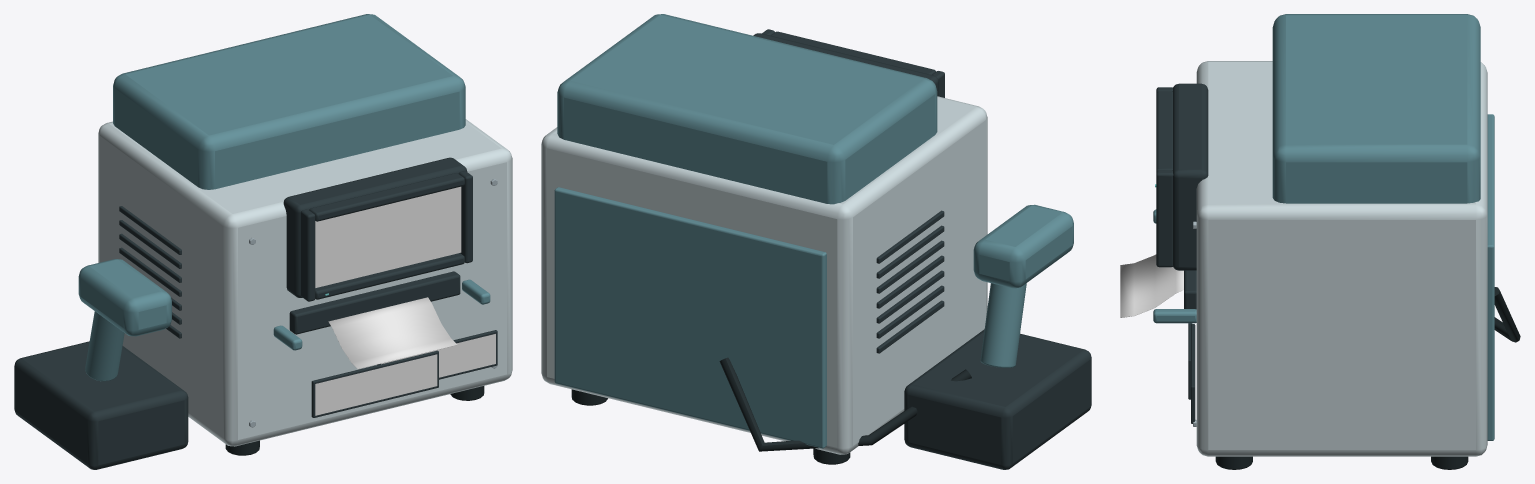
Rendered from ID_LabelPrinter.fbx.
3 views of the same model, side by side, from view 1: azimuth 30°, elevation 25°; view 2: azimuth 150°, elevation 25°; view 3: azimuth 270°, elevation 25° (orthographic). The views are drawn at different scales.
Parts seen in each view (by area): view 1: ID_LabelPrinter; view 2: ID_LabelPrinter; view 3: ID_LabelPrinter.
Part boxes in pixels (x1,y1,x2,y2): ID_LabelPrinter: (14,14,512,469); ID_LabelPrinter: (541,14,1091,469); ID_LabelPrinter: (1120,14,1520,469).
Size of the model in its own units: 73 by 51.5 by 57.77.
